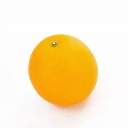orange: (27, 32, 100, 107)
